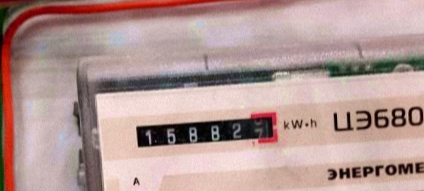1: (143, 127, 154, 145)
2: (231, 120, 243, 139)
5: (165, 127, 177, 144)
7: (253, 126, 265, 138)
8: (186, 125, 199, 142), (209, 123, 221, 141)
screen: (128, 108, 284, 156)
